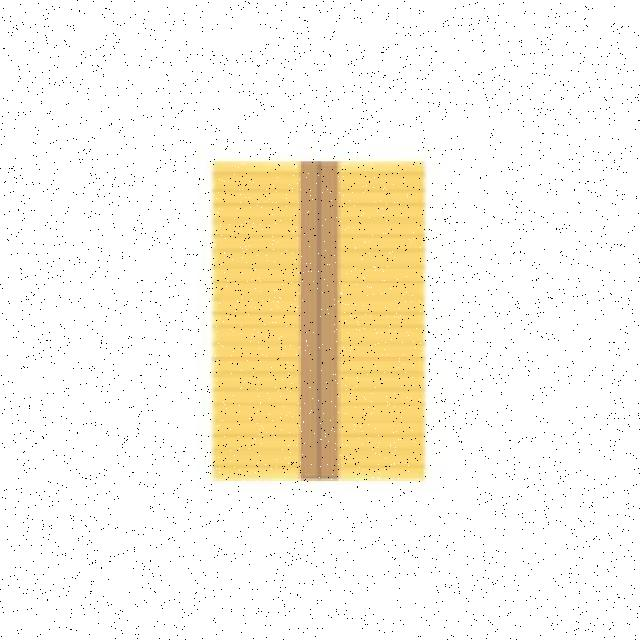normal: (202, 152, 432, 486)
